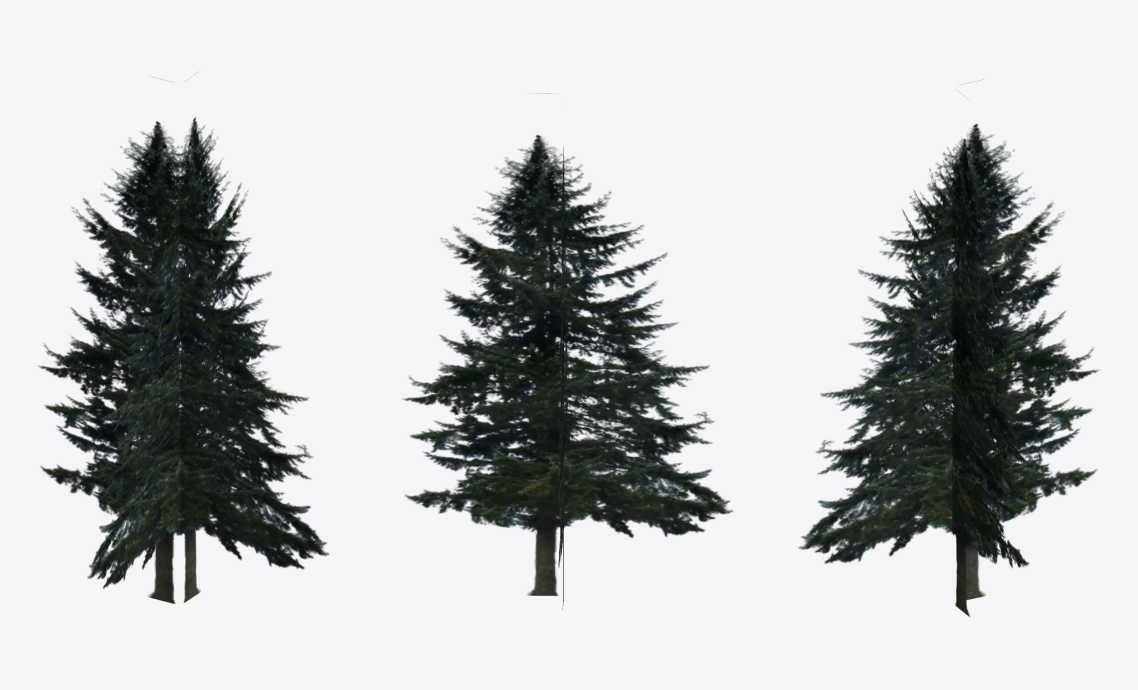
The model's file is forest-mountains-card-c.glb.
3 views of the same model, side by side, from view 1: azimuth 30°, elevation 25°; view 2: azimuth 150°, elevation 25°; view 3: azimuth 270°, elevation 25° (orthographic). The views are drawn at different scales.
Visible parts, largest first — view 1: Plane3463; view 2: Plane3463; view 3: Plane3463.
Boxes of the visible parts, <box> form: Plane3463: <box>38,77,329,603</box>; Plane3463: <box>403,93,732,609</box>; Plane3463: <box>798,80,1098,616</box>.
Size of the model in its own units: 6.01 by 10 by 6.01.
1 material, 1 textured.
